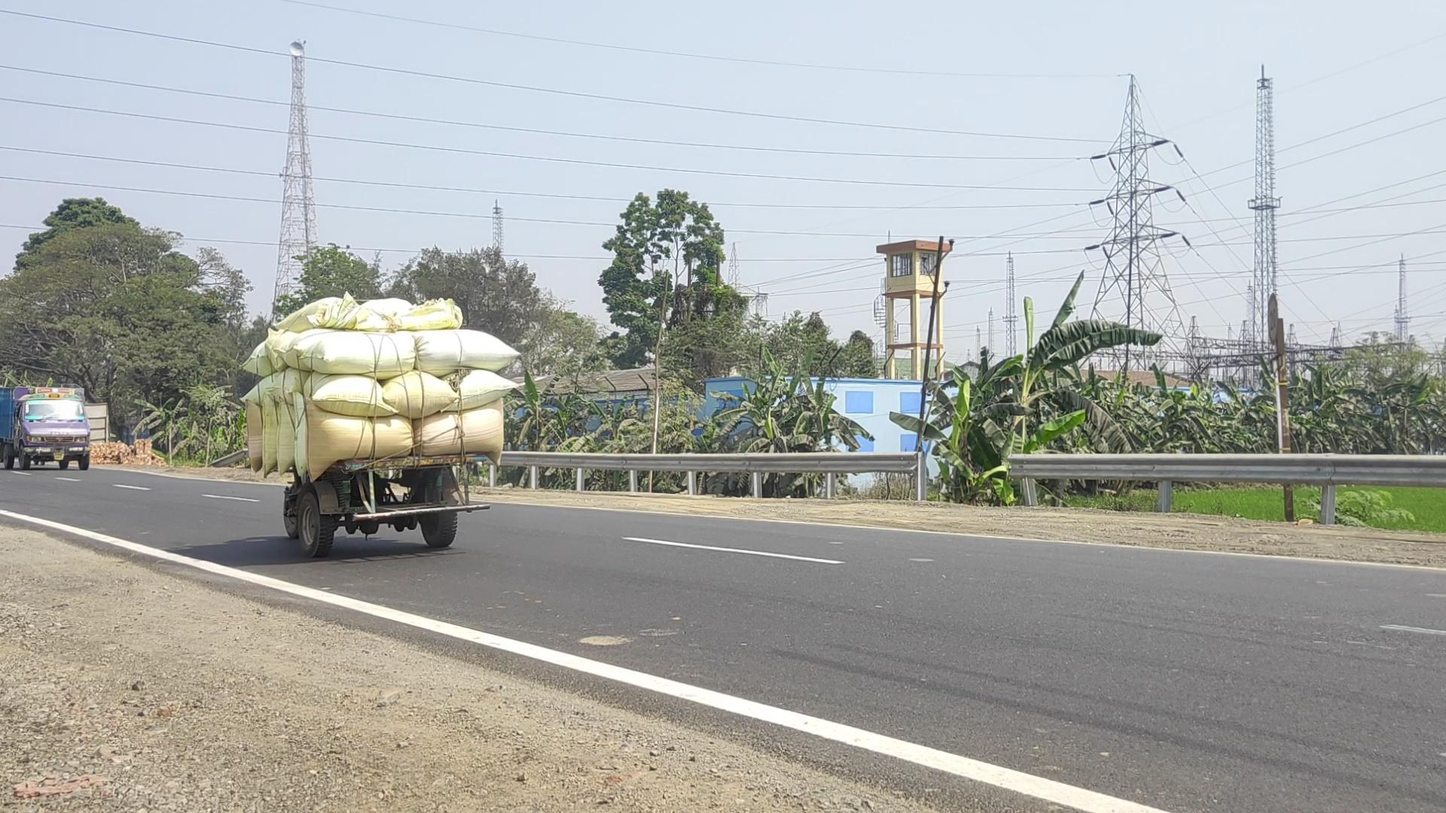truck: (1, 385, 92, 470)
